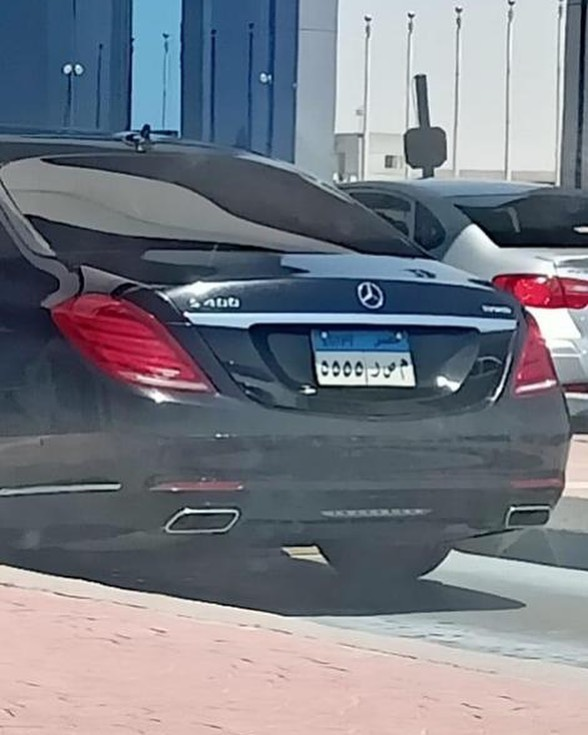carpl: (320, 352, 415, 381)
